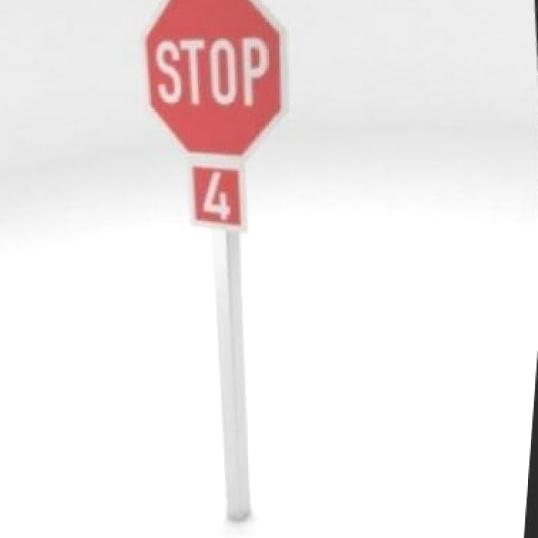stop_sign: (128, 0, 307, 167)
